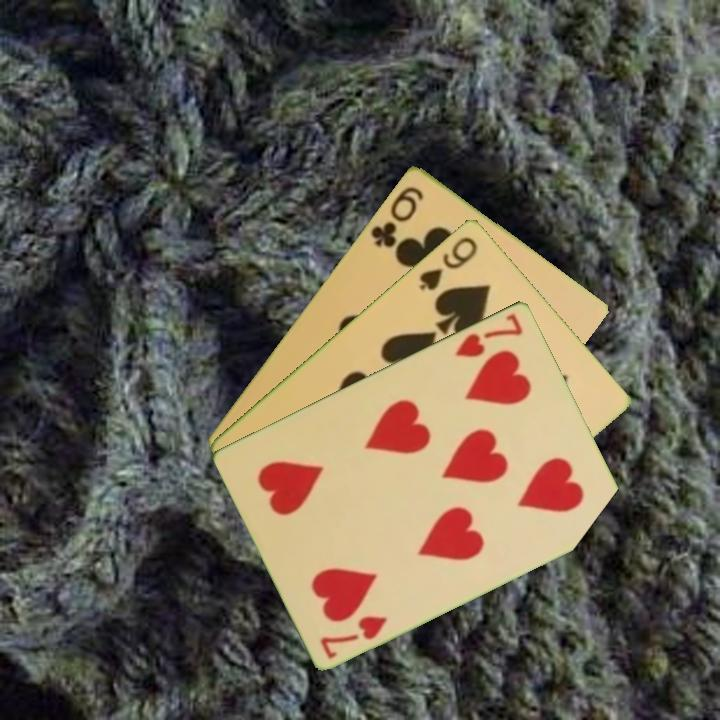6c: (367, 182, 427, 250)
7h: (316, 611, 391, 662), (452, 309, 526, 360)
9s: (415, 232, 481, 293)
